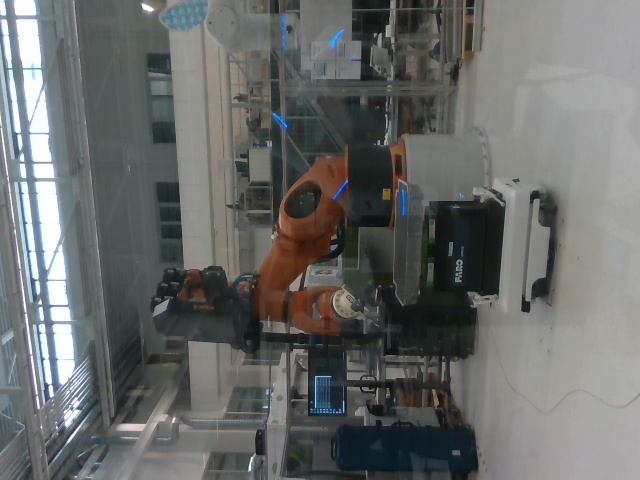Robot arm: (150, 136, 404, 349)
